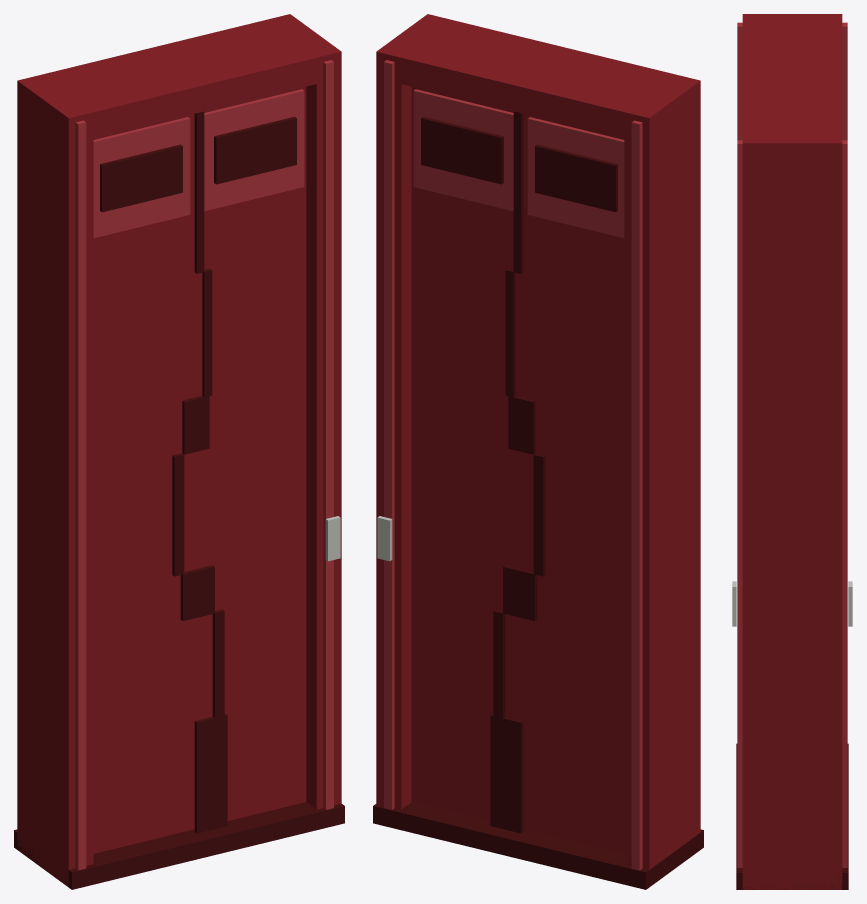
The model's file is CMU3DSecurityAirlock.glb.
3 views of the same model, side by side, from view 1: azimuth 30°, elevation 25°; view 2: azimuth 150°, elevation 25°; view 3: azimuth 270°, elevation 25° (orthographic). The views are drawn at different scales.
Visible parts, largest first — view 1: closed leaf body, door jamb (×2), header, jamb raised edge (×2), leaf meeting seam (×7), upper inset band (×2), upper dark inset (×2), threshold, side access reader; view 2: closed leaf body, door jamb (×2), header, jamb raised edge (×2), leaf meeting seam back (×7), upper inset band back (×2), threshold, upper dark inset back (×2), side access reader back; view 3: door jamb (×2), header, jamb raised edge (×4), threshold.
Part boxes in pixels (x1,y1,x2,y2): closed leaf body: (93,86,306,853); door jamb (×2): (17,14,341,887); header: (17,14,341,144); jamb raised edge (×2): (75,60,333,870); leaf meeting seam (×7): (172,111,227,833); upper inset band (×2): (93,89,304,238); upper dark inset (×2): (100,116,296,212); threshold: (14,802,344,889); side access reader: (325,516,340,561); closed leaf body: (411,86,624,853); door jamb (×2): (376,14,700,869); header: (376,14,700,144); jamb raised edge (×2): (384,60,642,870); leaf meeting seam back (×7): (490,111,545,833); upper inset band back (×2): (413,89,624,238); threshold: (373,802,703,889); upper dark inset back (×2): (421,116,617,212); side access reader back: (377,516,392,561); door jamb (×2): (742,14,842,889); header: (742,14,842,168); jamb raised edge (×4): (737,22,847,867); threshold: (736,743,848,889).
Bounding box in the file's own units: 0.98 × 2.64 × 0.386.
